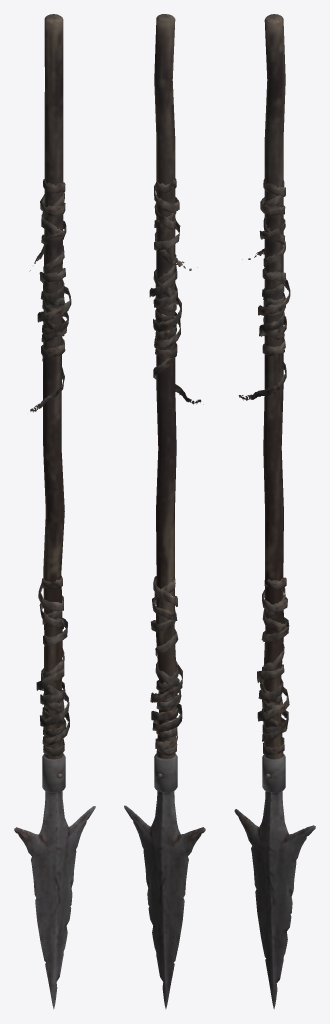
Rendered from weapon-wp_a_0919.glb.
3 renders of one model, left to right at view 1: azimuth 30°, elevation 25°; view 2: azimuth 150°, elevation 25°; view 3: azimuth 330°, elevation 25°, orthographic.
Visible parts, largest first — view 1: wp_a_0919_mesh; view 2: wp_a_0919_mesh; view 3: wp_a_0919_mesh.
Boxes of the visible parts, x1=… form: wp_a_0919_mesh: x1=14, y1=14, x2=95, y2=1009; wp_a_0919_mesh: x1=124, y1=14, x2=205, y2=1009; wp_a_0919_mesh: x1=234, y1=14, x2=315, y2=1009.
Bounding box in the file's own units: 0.1746 × 2.03 × 0.0634.
Materials: 1 (1 with a texture image).
